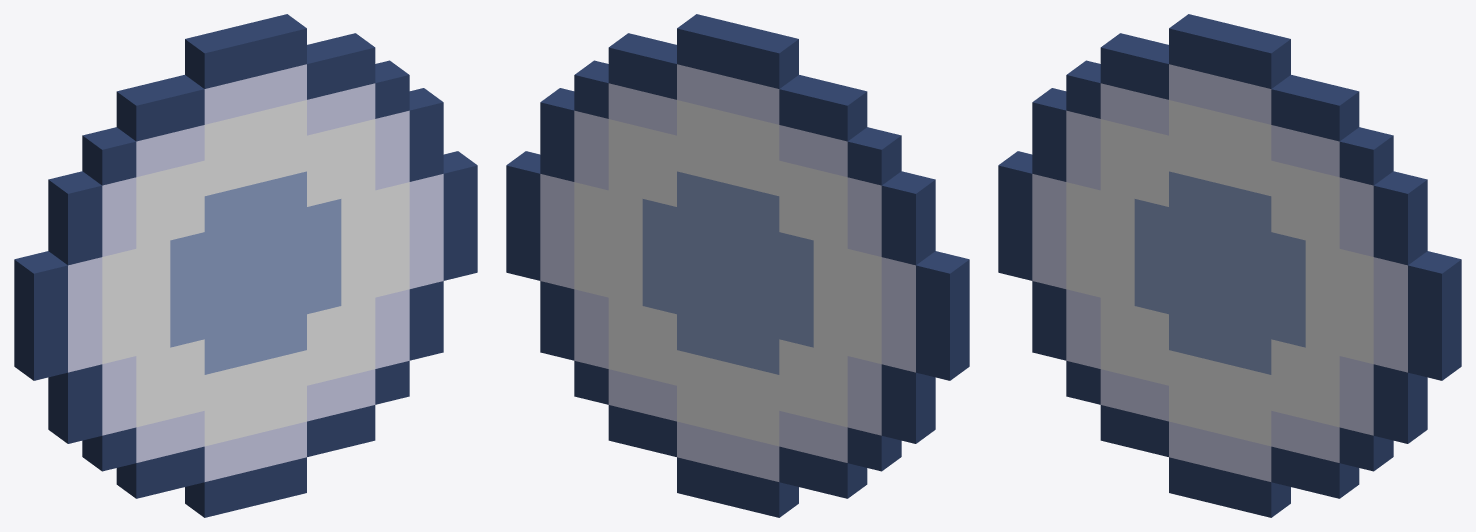
File: Moonstone.glb
3 views of the same model, side by side, from view 1: azimuth 30°, elevation 25°; view 2: azimuth 150°, elevation 25°; view 3: azimuth 330°, elevation 25° (orthographic).
Parts seen in each view (by area): view 1: Untitled; view 2: Untitled; view 3: Untitled.
Boxes of the visible parts, left/top/right/bottom form: Untitled: left=14, top=14, right=477, bottom=517; Untitled: left=506, top=14, right=969, bottom=517; Untitled: left=998, top=14, right=1461, bottom=517.
Bounding box in the file's own units: 6.5 × 6.5 × 0.5.
1 material, 1 textured.
